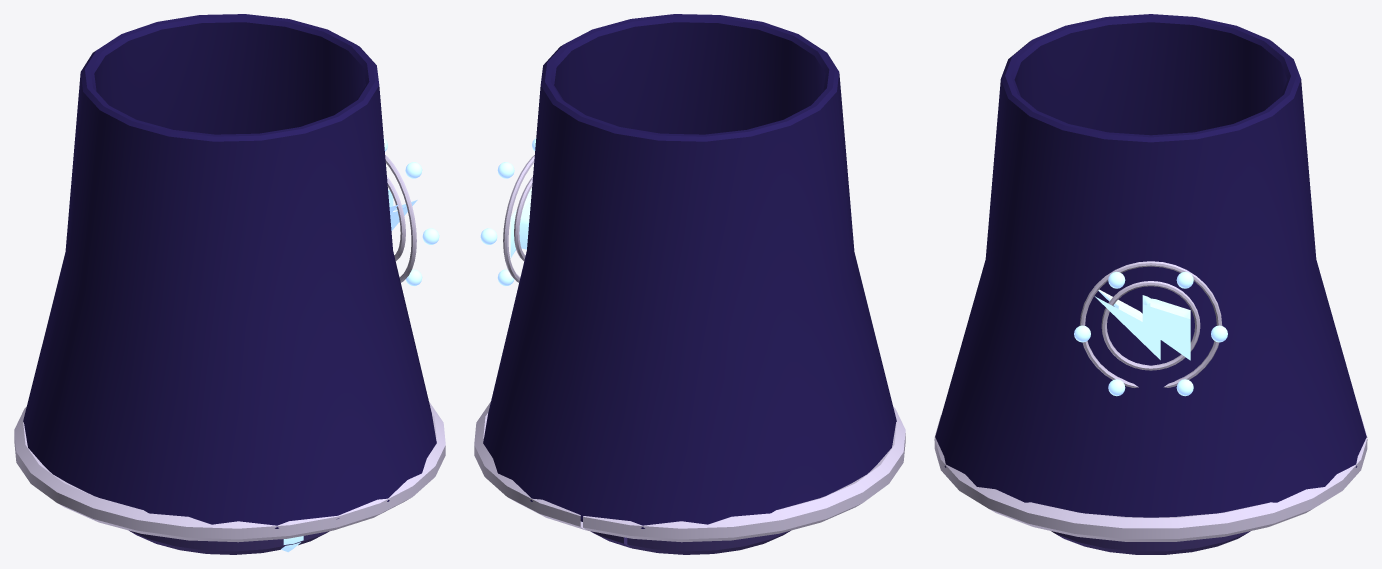
File: asc_eclipse_oracle_gloves.glb
3 renders of one model, left to right at view 1: azimuth 30°, elevation 25°; view 2: azimuth 150°, elevation 25°; view 3: azimuth 270°, elevation 25°, orthographic.
Visible parts, largest first — view 1: asc_eclipse_oracle_gloves; view 2: asc_eclipse_oracle_gloves; view 3: asc_eclipse_oracle_gloves.
Part boxes in pixels (x1,y1,x2,y2): asc_eclipse_oracle_gloves: (14, 14, 445, 554); asc_eclipse_oracle_gloves: (474, 14, 905, 554); asc_eclipse_oracle_gloves: (934, 14, 1367, 554).
Size of the model in its own units: 0.221 by 0.2464 by 0.2227.
